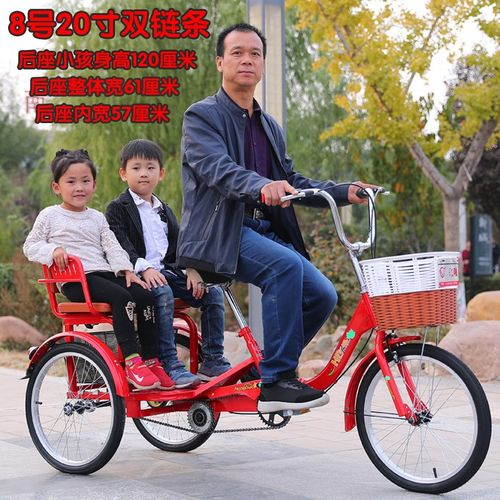driver: (177, 25, 384, 426)
overloading: (18, 25, 474, 485)
passenger: (111, 138, 225, 392), (16, 138, 106, 323)
